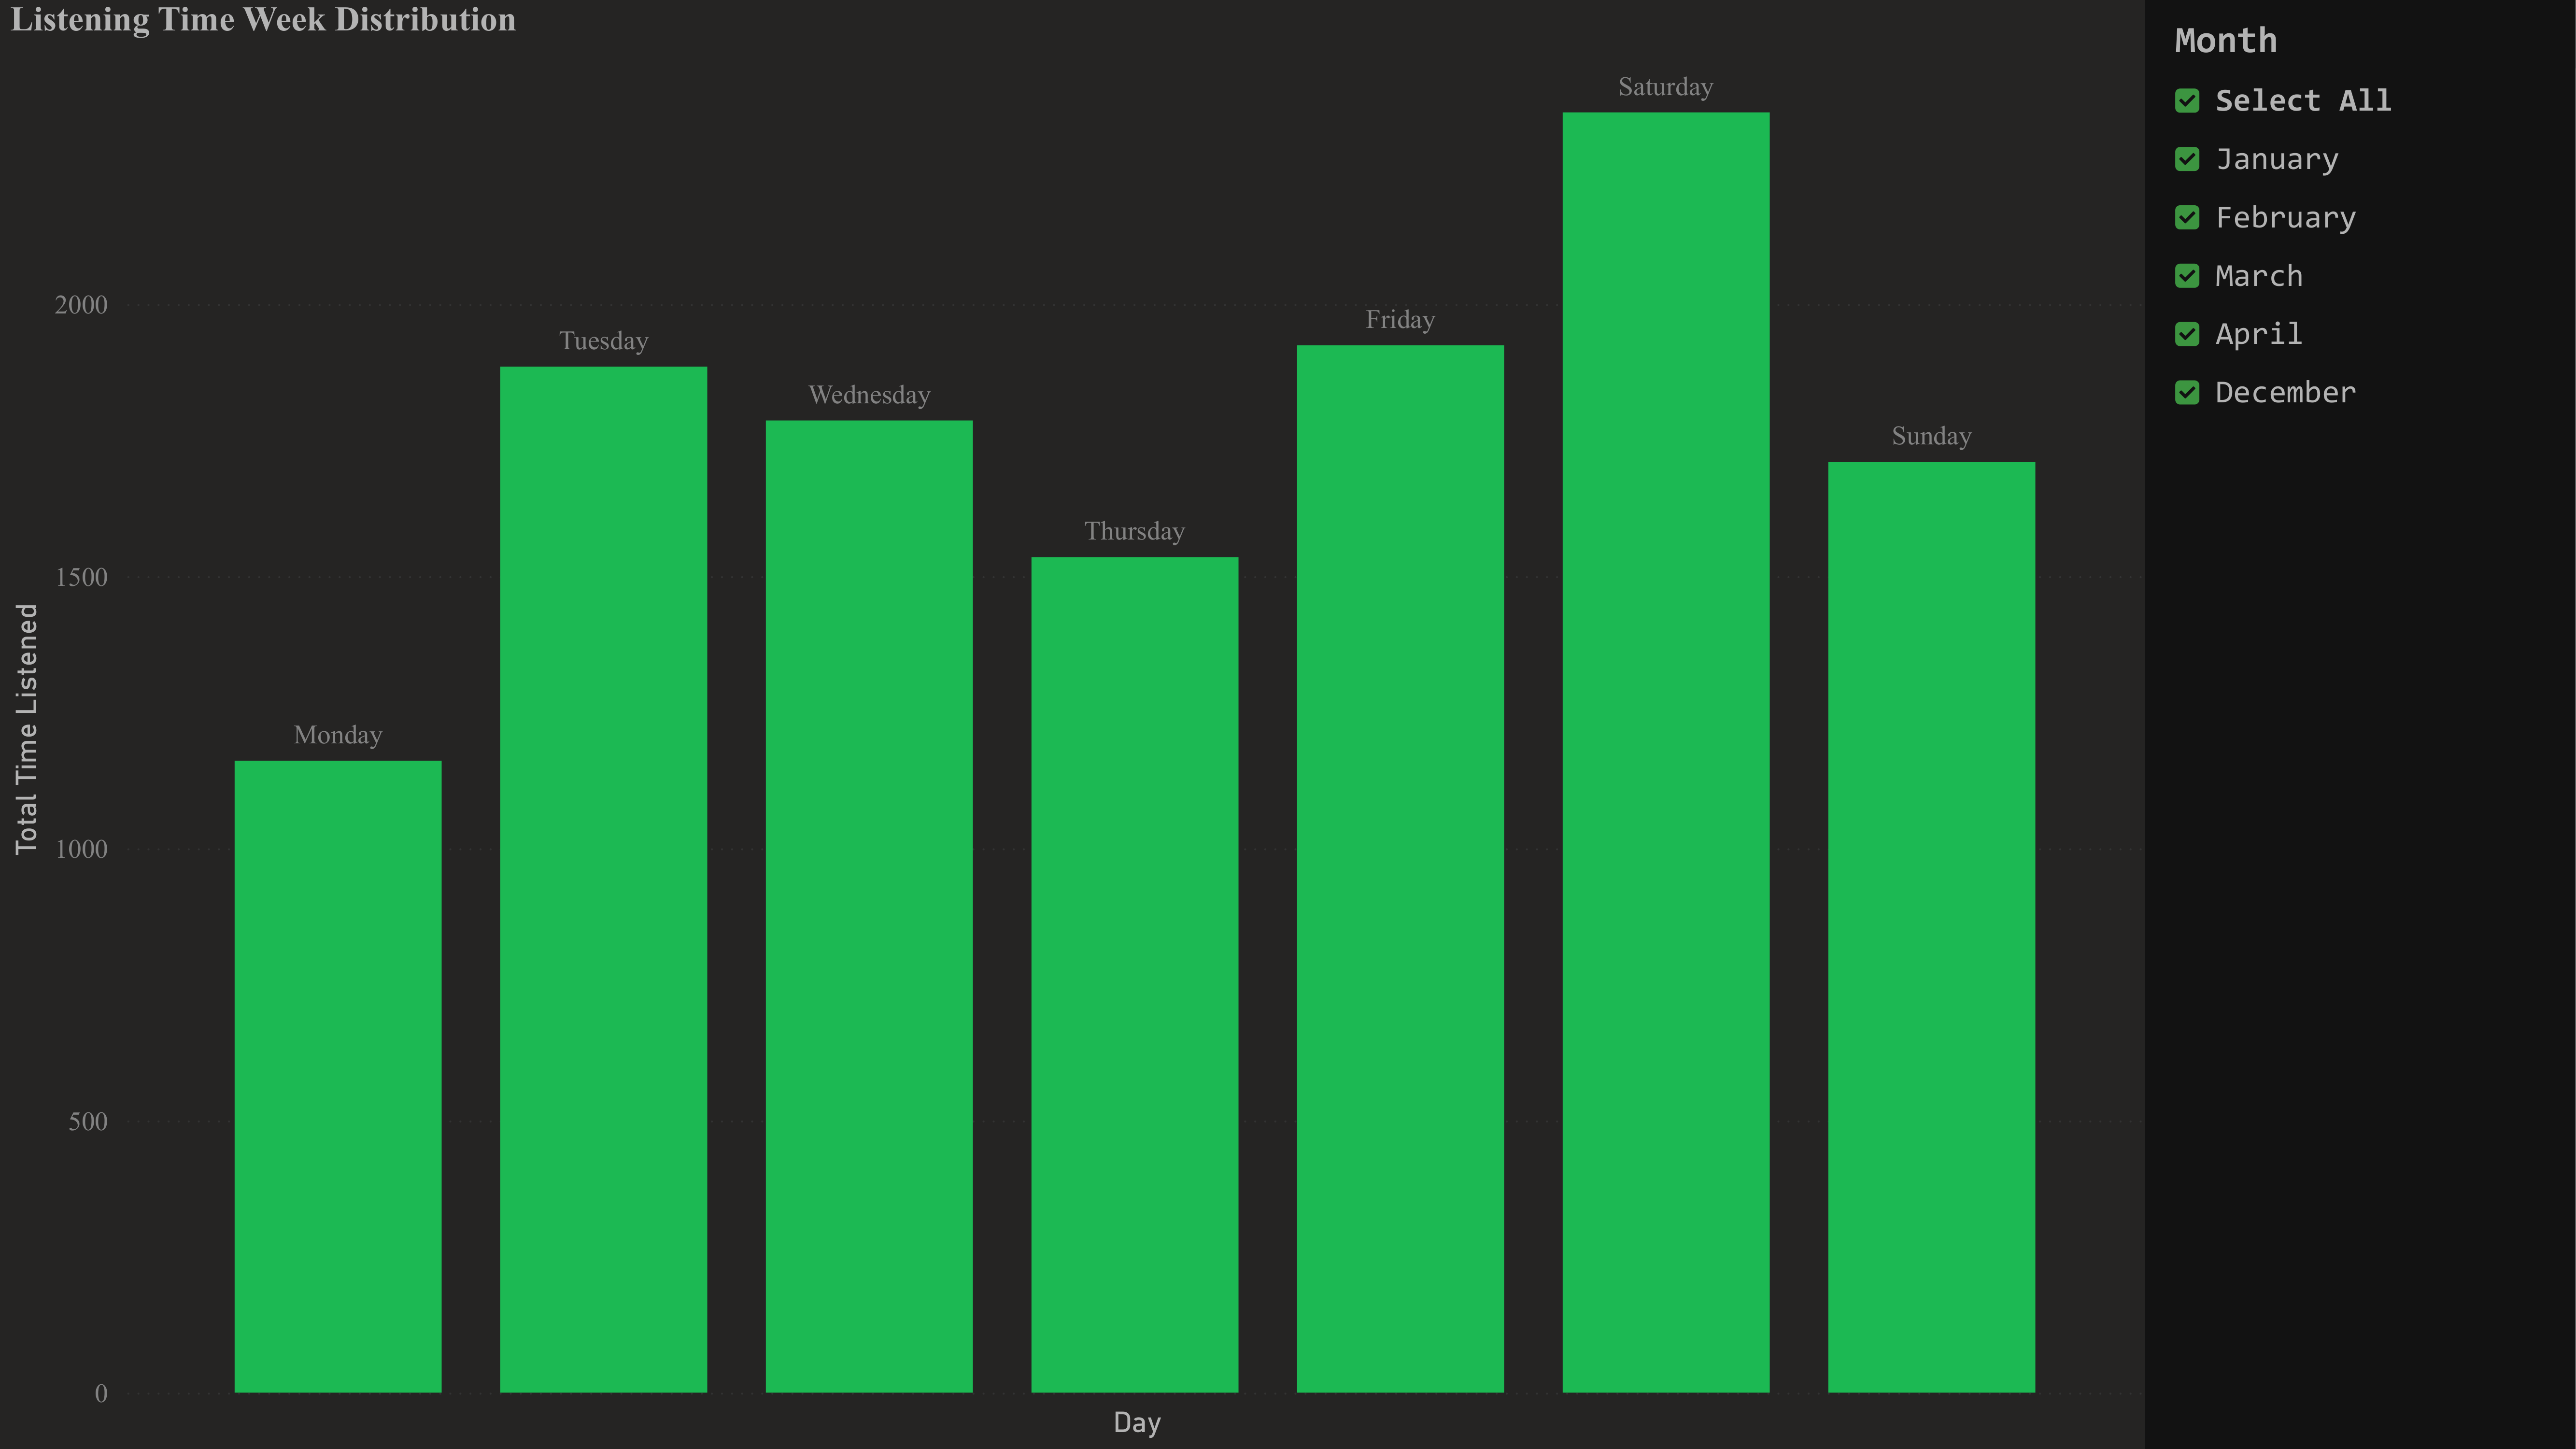

The dashboard page shown, as its layout file describes it:
{"tool":"powerbi","page":{"name":"Week Analysis","canvas":[1280,720],"ordinal":4},"visuals":[{"type":"columnChart","title":"Listening Time Week Distribution","fields":{"Y":["Sum(Listening Data.time_listened)"],"Category":["DateTable.DayOfWeekName"]},"box":[0,0,1055.7,720.8],"z":0},{"type":"PowerSlicerA96234ADB8D143D1837FEC426BB34781","fields":{"categories":["DateTable.MonthName"]},"box":[1066,0,214,720],"z":1000}]}

Visuals, with their boxes in screenshot pixels (x1, y1, x2, y2), scaled from the page's 1280x720 canvas onto the 2576x1449 screenshot:
"Listening Time Week Distribution" columnChart: <bbox>0, 0, 2124, 1449</bbox>
PowerSlicerA96234ADB8D143D1837FEC426BB34781 - DateTable.MonthName: <bbox>2145, 0, 2576, 1449</bbox>
